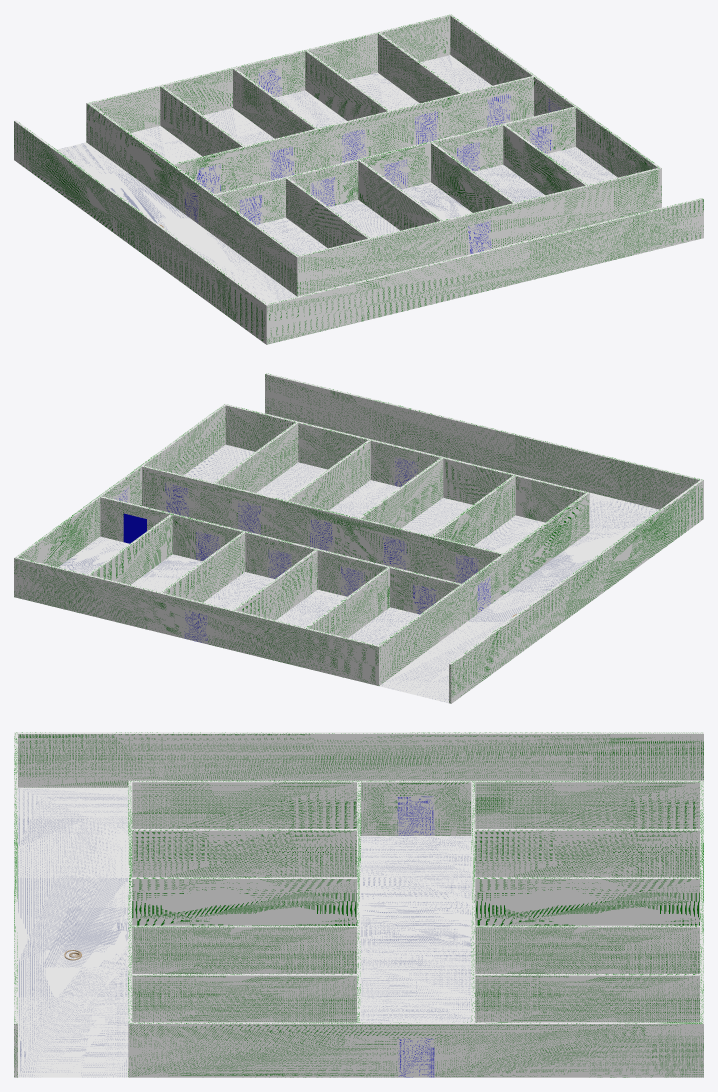
3 renders of one model, top to bottom at view 1: azimuth 30°, elevation 25°; view 2: azimuth 150°, elevation 25°; view 3: azimuth 270°, elevation 25°, orthographic. The views are drawn at different scales.
Parts seen in each view (by area): view 1: SketchUp (×28); view 2: SketchUp (×28); view 3: SketchUp (×9).
Boxes of the visible parts, box(x1,y1,x2,y2) form: SketchUp (×28): box(14, 14, 703, 344); SketchUp (×28): box(14, 373, 703, 703); SketchUp (×9): box(14, 732, 703, 1077).
Bounding box in the file's own units: 1050 × 1050 × 90.
